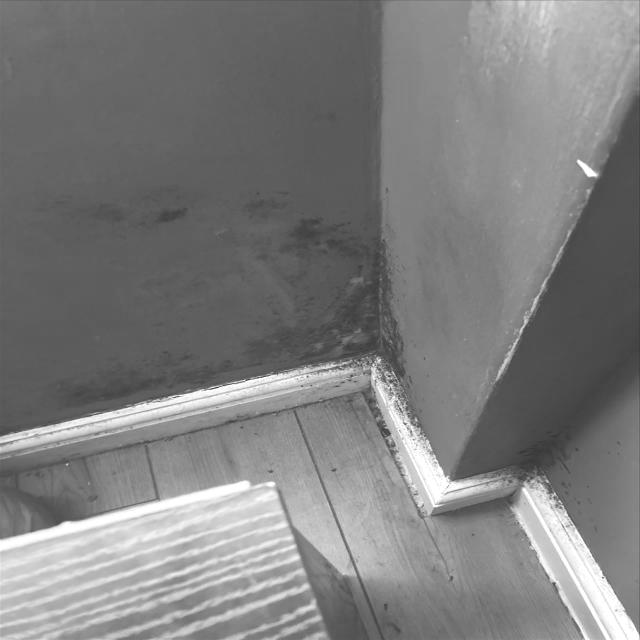stain marks: (18, 207, 408, 427), (34, 337, 230, 421), (457, 418, 592, 514), (10, 182, 205, 242), (364, 344, 441, 487), (118, 257, 263, 332), (253, 210, 356, 260), (222, 183, 297, 226)
